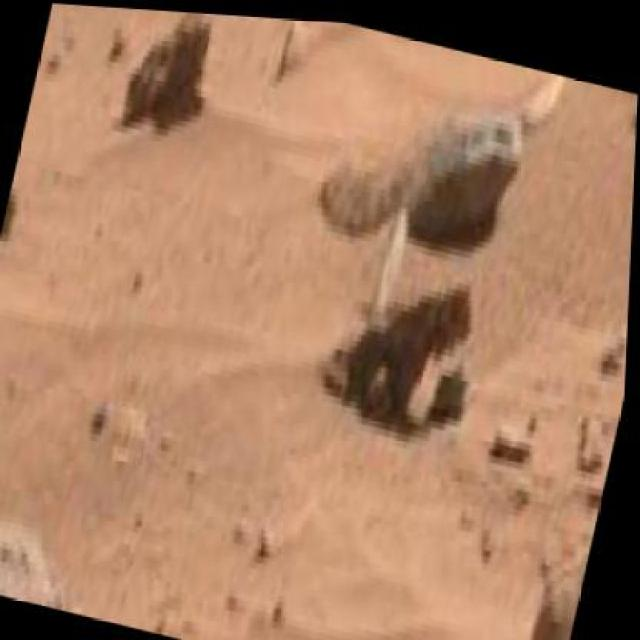rock: (307, 63, 535, 280), (526, 260, 631, 638), (116, 6, 227, 143), (615, 83, 637, 174)
